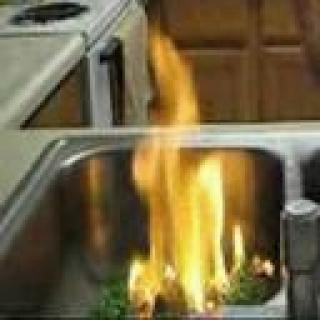fire: (129, 22, 246, 313)
